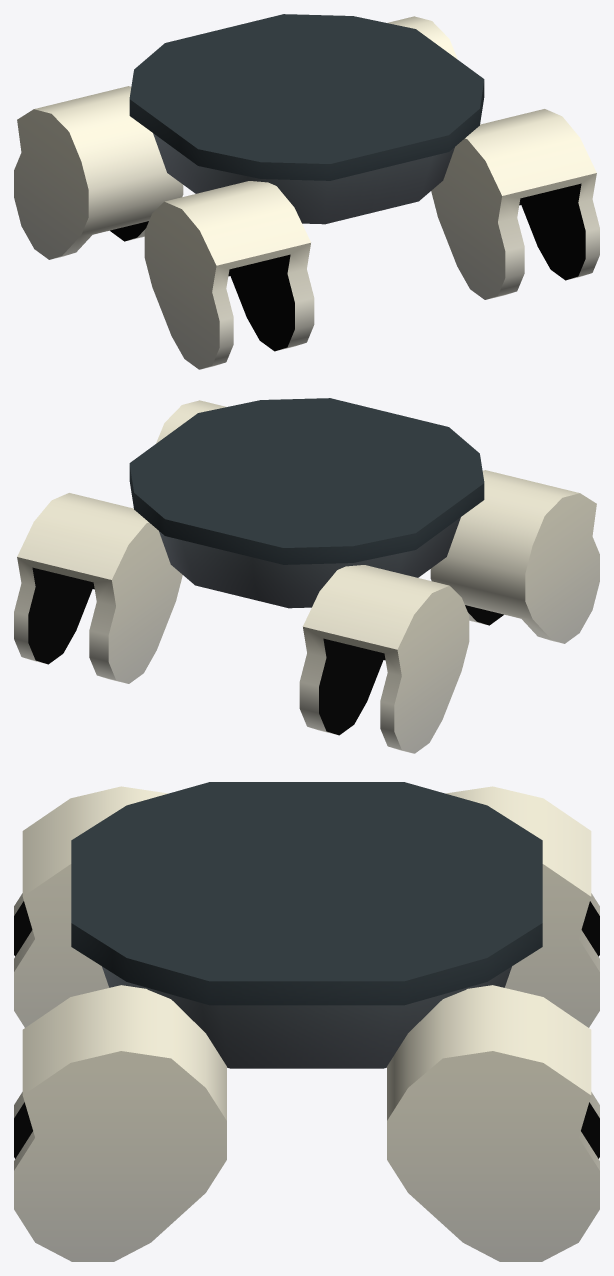
File: robot_legs.fbx
3 renders of one model, top to bottom at view 1: azimuth 30°, elevation 25°; view 2: azimuth 150°, elevation 25°; view 3: azimuth 270°, elevation 25°, orthographic. The views are drawn at different scales.
Parts seen in each view (by area): view 1: Cylinder.006, Cylinder.003, Cylinder.005; view 2: Cylinder.006, Cylinder.003, Cylinder.005; view 3: Cylinder.006, Cylinder.003, Cylinder.005.
Boxes of the visible parts, x1,y1,x2,y2 form: Cylinder.006: (14,16,599,369); Cylinder.003: (129,14,484,180); Cylinder.005: (153,133,454,224); Cylinder.006: (14,400,599,753); Cylinder.003: (129,398,484,564); Cylinder.005: (159,517,460,608); Cylinder.006: (14,786,599,1261); Cylinder.003: (71,782,542,1005); Cylinder.005: (102,966,511,1068).
Size of the model in its own units: 0.2387 by 0.2235 by 0.1043.
